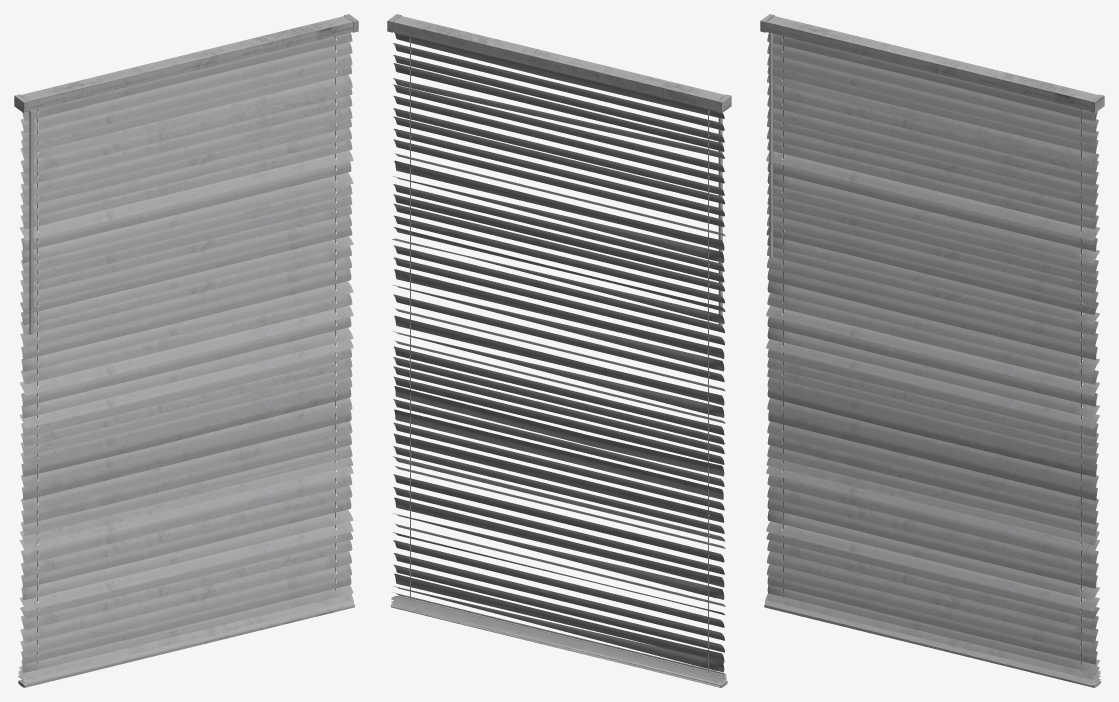
File: SM_Blinds_01e.fbx
3 views of the same model, side by side, from view 1: azimuth 30°, elevation 25°; view 2: azimuth 150°, elevation 25°; view 3: azimuth 330°, elevation 25° (orthographic).
Visible parts, largest first — view 1: SM_Blinds_01e_LOD0; view 2: SM_Blinds_01e_LOD0; view 3: SM_Blinds_01e_LOD0.
Part boxes in pixels (<box>): SM_Blinds_01e_LOD0: <box>14,14,358,687</box>; SM_Blinds_01e_LOD0: <box>387,14,731,687</box>; SM_Blinds_01e_LOD0: <box>760,14,1104,687</box>.
Size of the model in its own units: 150 by 7.4 by 251.
